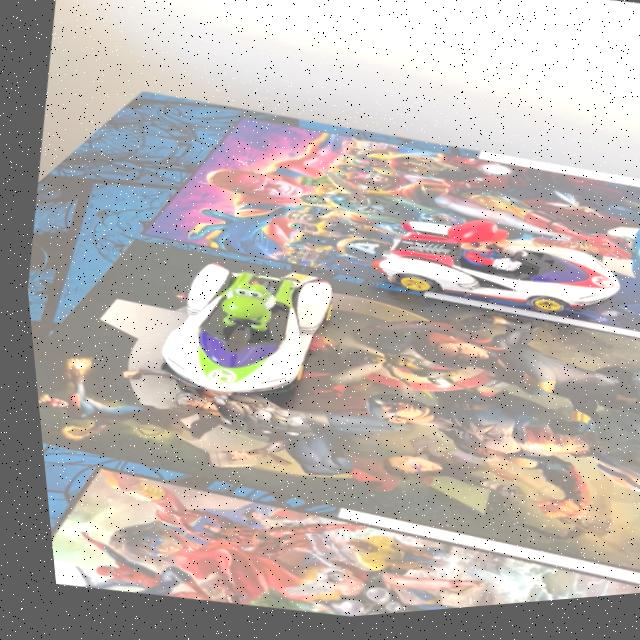mario: (357, 193, 639, 348)
yoshi: (129, 239, 351, 431)
